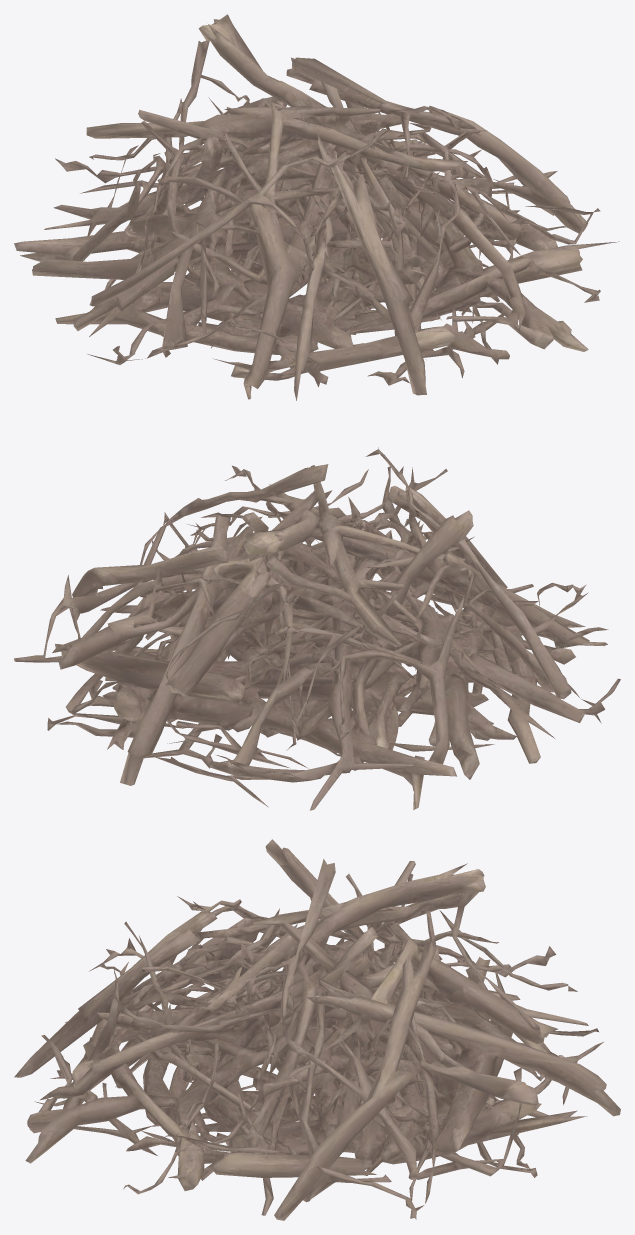
Rendered from prop_deadfall.glb.
3 renders of one model, top to bottom at view 1: azimuth 30°, elevation 25°; view 2: azimuth 150°, elevation 25°; view 3: azimuth 270°, elevation 25°, orthographic. The views are drawn at different scales.
Visible parts, largest first — view 1: Mesh_0; view 2: Mesh_0; view 3: Mesh_0.
Part boxes in pixels (x1,y1,x2,y2): Mesh_0: (14,14,619,400); Mesh_0: (14,447,620,810); Mesh_0: (14,839,620,1220).
Bounding box in the file's own units: 1.89 × 0.8207 × 1.9.
1 material, 1 textured.
